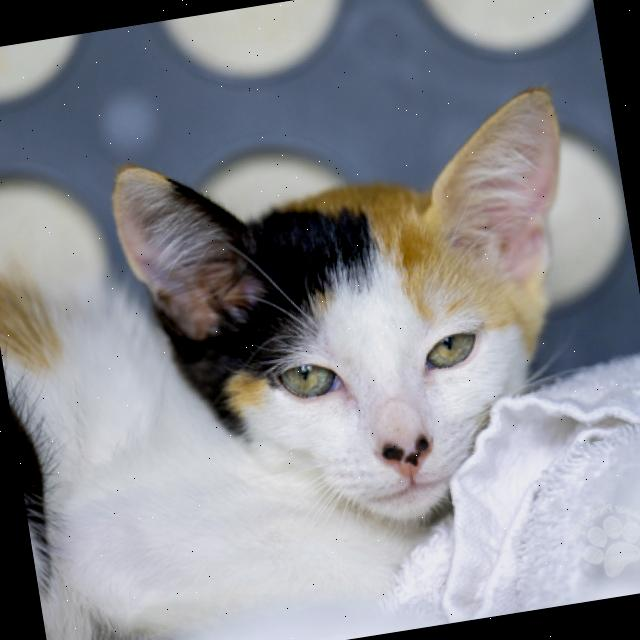domestic_short_hair_cat: (80, 49, 640, 585)
